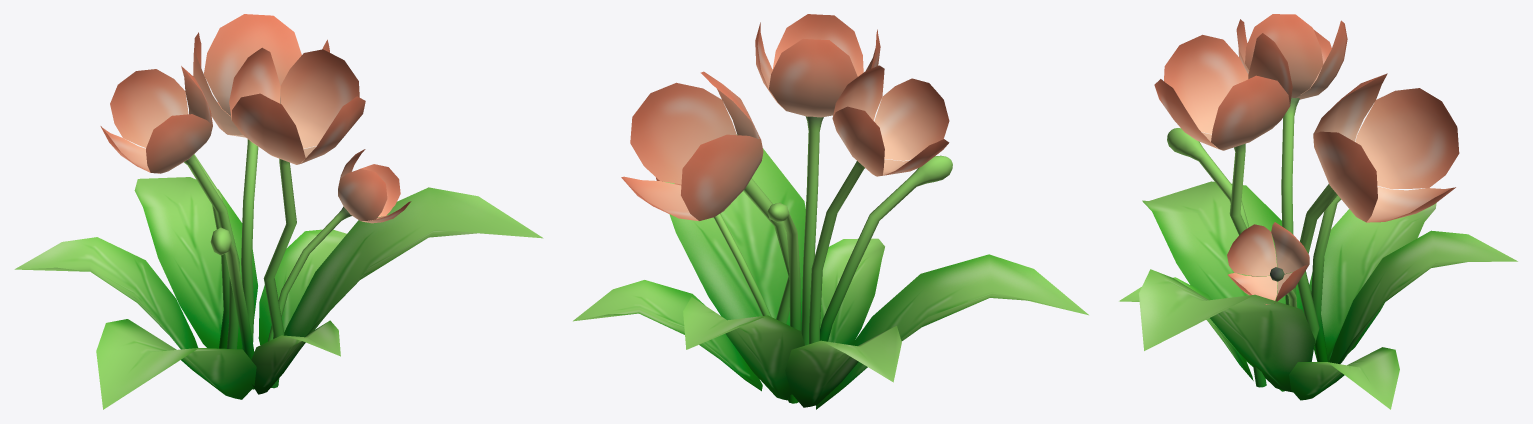
File: flower4.glb
3 renders of one model, left to right at view 1: azimuth 30°, elevation 25°; view 2: azimuth 150°, elevation 25°; view 3: azimuth 270°, elevation 25°, orthographic.
Parts seen in each view (by area): view 1: Cylinder.010; view 2: Cylinder.010; view 3: Cylinder.010.
Part boxes in pixels (bbox=[...]): Cylinder.010: bbox=[14, 14, 543, 409]; Cylinder.010: bbox=[573, 14, 1088, 409]; Cylinder.010: bbox=[1119, 14, 1517, 409].
Bounding box in the file's own units: 1.66 × 1.27 × 1.29.
Materials: 1 (1 with a texture image).
